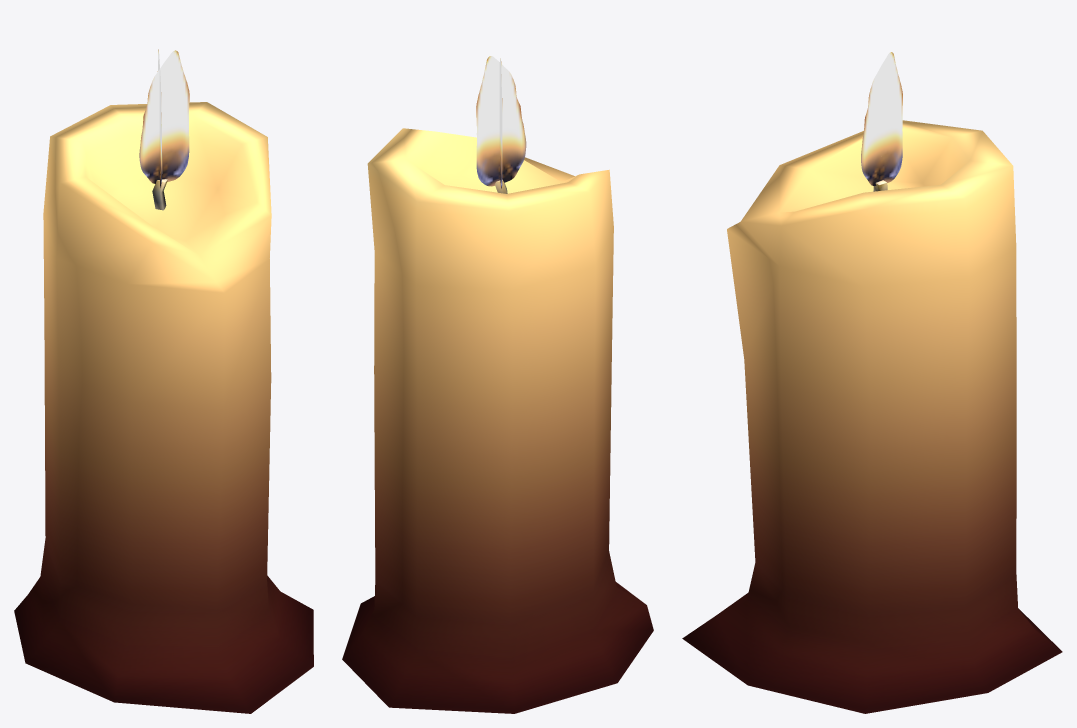
Rendered from CandleShapeB.029.glb.
The picture shows the model from 3 angles, left to right: view 1: azimuth 30°, elevation 25°; view 2: azimuth 150°, elevation 25°; view 3: azimuth 270°, elevation 25°; orthographic projection.
Parts seen in each view (by area): view 1: CandleShapeB.029; view 2: CandleShapeB.029; view 3: CandleShapeB.029.
Boxes of the visible parts, <box> form: CandleShapeB.029: <box>14,49,313,713</box>; CandleShapeB.029: <box>342,56,653,713</box>; CandleShapeB.029: <box>682,52,1062,713</box>.
Bounding box in the file's own units: 0.0966 × 0.2031 × 0.117.
Materials: 2 (2 with a texture image).
